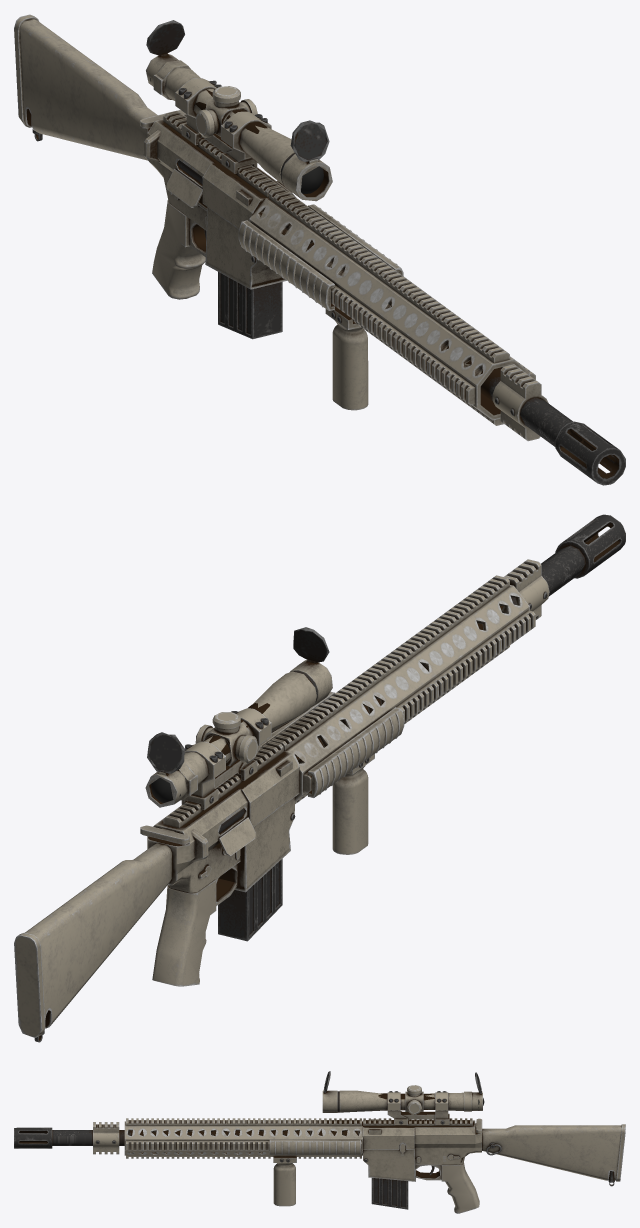
Rendered from gun_sniper.glb.
The picture shows the model from 3 angles, top to bottom: view 1: azimuth 30°, elevation 25°; view 2: azimuth 150°, elevation 25°; view 3: azimuth 270°, elevation 25°; orthographic projection. The views are drawn at different scales.
Visible parts, largest first — view 1: StockModel, RailBodyModel, MainBodyModel, ScopeModel, Rail1Model, SideGripsModel, CartridgeModel, GripHandleModel, Rail4Model, VerticalGripModel, MusselModel, ScopeSupportModel (+6 smaller); view 2: StockModel, MainBodyModel, RailBodyModel, ScopeModel, Rail1Model, GripHandleModel, SideGripsModel, Rail4Model, CartridgeModel, VerticalGripModel, ScopeSupportModel, ScopeLidsModel (+6 smaller); view 3: StockModel, MainBodyModel, RailBodyModel, ScopeModel, Rail1Model, SideGripsModel, Rail2Model, GripHandleModel, ScopeSupportModel, BarrelModel, CartridgeModel, VerticalGripModel (+5 smaller).
Boxes of the visible parts, left/top/right/bottom form: StockModel: left=14, top=14, right=157, bottom=160; RailBodyModel: left=249, top=197, right=529, bottom=420; MainBodyModel: left=143, top=114, right=296, bottom=289; ScopeModel: left=146, top=53, right=332, bottom=201; Rail1Model: left=269, top=187, right=509, bottom=363; SideGripsModel: left=238, top=204, right=403, bottom=310; CartridgeModel: left=218, top=272, right=282, bottom=339; GripHandleModel: left=152, top=200, right=205, bottom=299; Rail4Model: left=331, top=285, right=475, bottom=405; VerticalGripModel: left=332, top=321, right=368, bottom=410; MusselModel: left=555, top=421, right=625, bottom=485; ScopeSupportModel: left=175, top=78, right=271, bottom=173; StockModel: left=14, top=843, right=172, bottom=1037; MainBodyModel: left=147, top=746, right=299, bottom=905; RailBodyModel: left=283, top=585, right=529, bottom=801; ScopeModel: left=145, top=659, right=332, bottom=807; Rail1Model: left=270, top=575, right=509, bottom=750; GripHandleModel: left=152, top=879, right=216, bottom=986; SideGripsModel: left=260, top=691, right=404, bottom=797; Rail4Model: left=303, top=610, right=535, bottom=792; CartridgeModel: left=218, top=859, right=282, bottom=941; VerticalGripModel: left=332, top=766, right=368, bottom=854; ScopeSupportModel: left=181, top=708, right=271, bottom=810; ScopeLidsModel: left=147, top=627, right=329, bottom=773; StockModel: left=482, top=1124, right=625, bottom=1181; MainBodyModel: left=362, top=1119, right=481, bottom=1181; RailBodyModel: left=124, top=1121, right=362, bottom=1155; ScopeModel: left=322, top=1089, right=482, bottom=1112; Rail1Model: left=126, top=1118, right=361, bottom=1125; SideGripsModel: left=269, top=1139, right=360, bottom=1154; Rail2Model: left=126, top=1141, right=361, bottom=1150; GripHandleModel: left=441, top=1162, right=479, bottom=1213; ScopeSupportModel: left=387, top=1092, right=449, bottom=1125; BarrelModel: left=52, top=1130, right=358, bottom=1145; CartridgeModel: left=371, top=1178, right=408, bottom=1209; VerticalGripModel: left=273, top=1163, right=295, bottom=1206.
Size of the model in its own units: 0.1636 by 0.5144 by 2.05.
6 materials, 5 textured.
